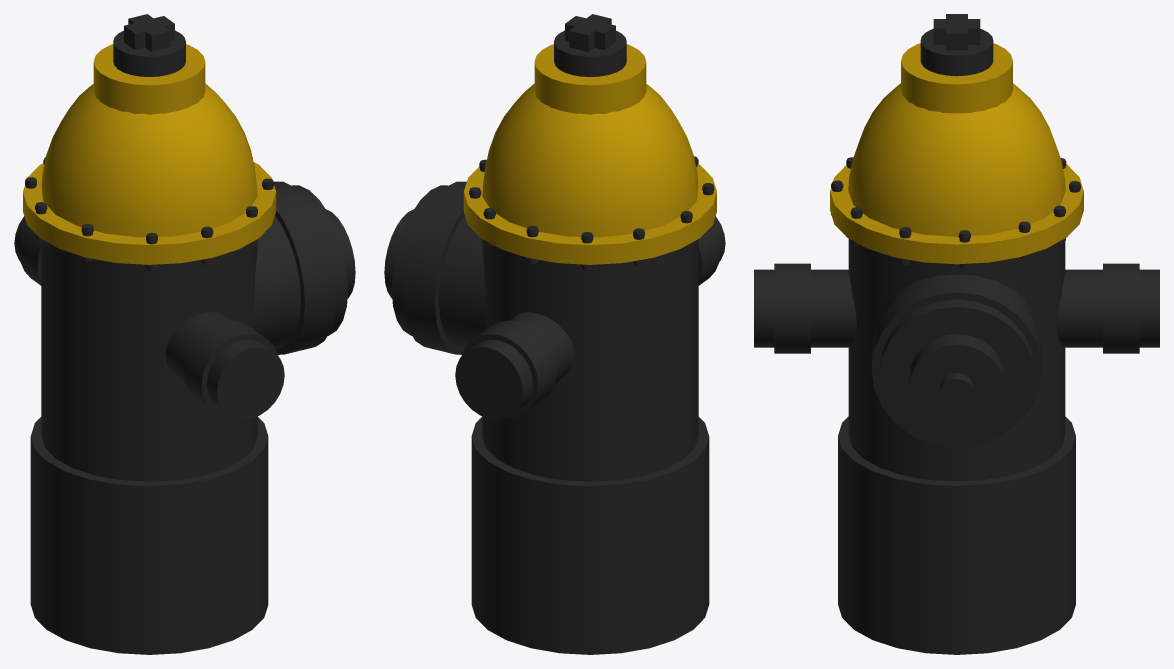
Rendered from FireHydrant.fbx.
3 renders of one model, left to right at view 1: azimuth 30°, elevation 25°; view 2: azimuth 150°, elevation 25°; view 3: azimuth 270°, elevation 25°, orthographic.
Visible parts, largest first — view 1: group27_pasted__group12_pasted__pasted__group1_pasted__paste; view 2: group27_pasted__group12_pasted__pasted__group1_pasted__paste; view 3: group27_pasted__group12_pasted__pasted__group1_pasted__paste.
Part boxes in pixels (x1,y1,x2,y2): group27_pasted__group12_pasted__pasted__group1_pasted__paste: (14,14,355,654); group27_pasted__group12_pasted__pasted__group1_pasted__paste: (384,14,725,654); group27_pasted__group12_pasted__pasted__group1_pasted__paste: (754,14,1159,654).
Bounding box in the file's own units: 35.93 × 65.44 × 41.44.
